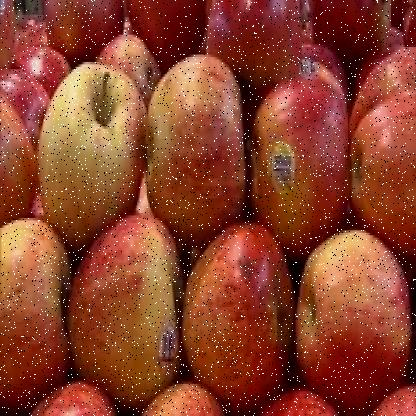apple: (181, 216, 292, 394), (66, 208, 176, 376), (298, 232, 410, 394), (40, 62, 140, 236), (146, 52, 246, 223), (249, 72, 350, 220), (0, 218, 65, 389), (352, 54, 414, 222)
